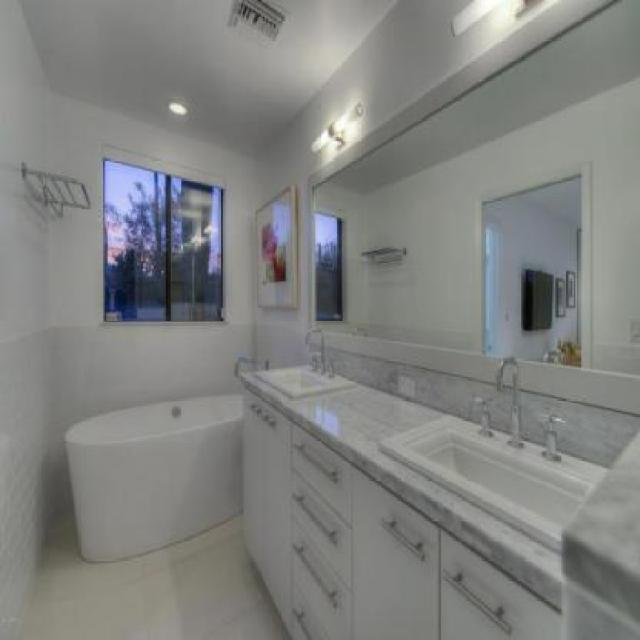Floor: (16, 512, 292, 638)
